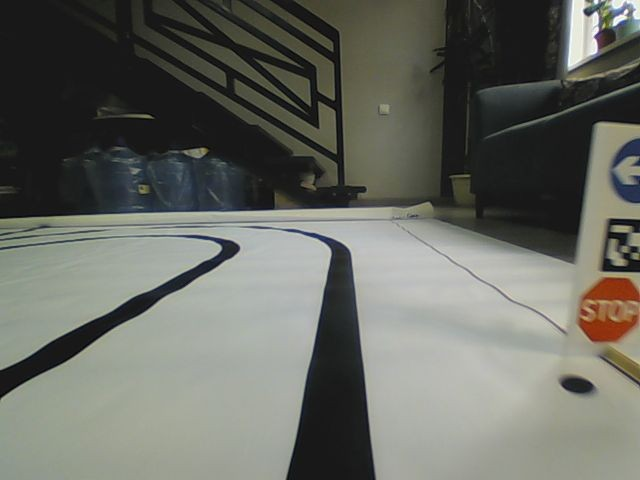Stop: (576, 276, 640, 344)
